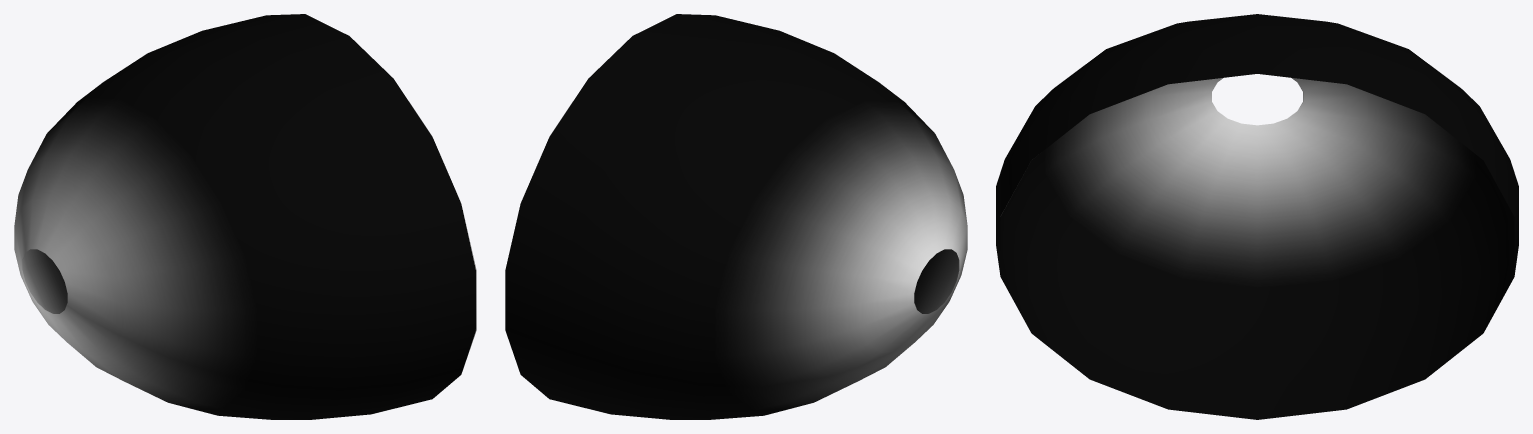
The model's file is Aura_Mesh_ruf.fbx.
3 views of the same model, side by side, from view 1: azimuth 30°, elevation 25°; view 2: azimuth 150°, elevation 25°; view 3: azimuth 270°, elevation 25° (orthographic).
Parts seen in each view (by area): view 1: Cylinder002; view 2: Cylinder002; view 3: Cylinder002.
Boxes of the visible parts, <box> form: Cylinder002: <box>14,14,476,419</box>; Cylinder002: <box>505,14,967,419</box>; Cylinder002: <box>996,14,1518,419</box>.
Bounding box in the file's own units: 76.25 × 81.97 × 112.
